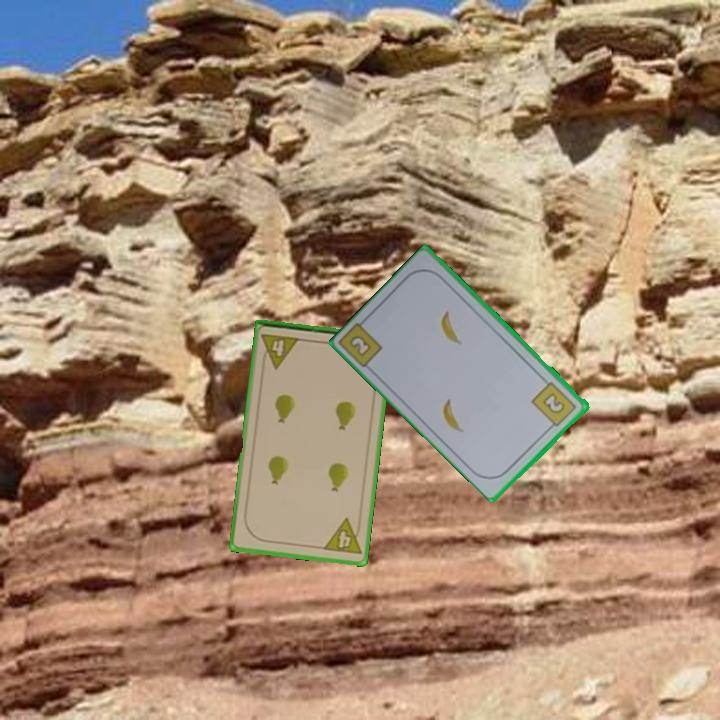2b: (528, 378, 580, 432), (348, 334, 372, 357)
4p: (320, 515, 364, 558), (258, 330, 303, 371)
